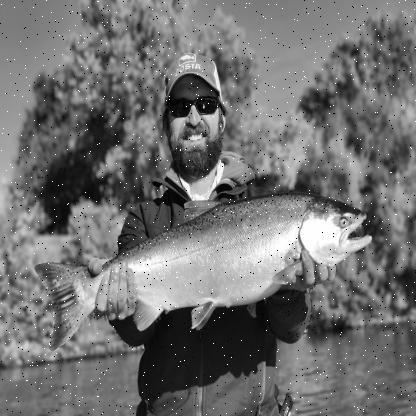fish: (36, 193, 374, 351)
